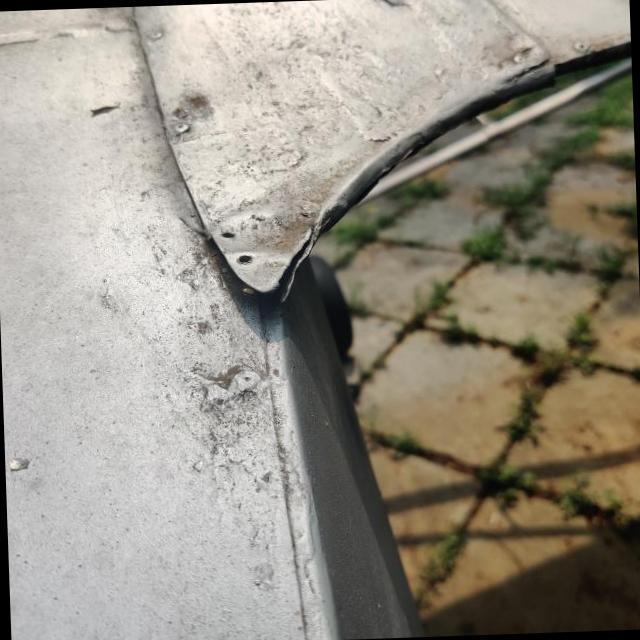Rupture: (248, 195, 346, 318)
